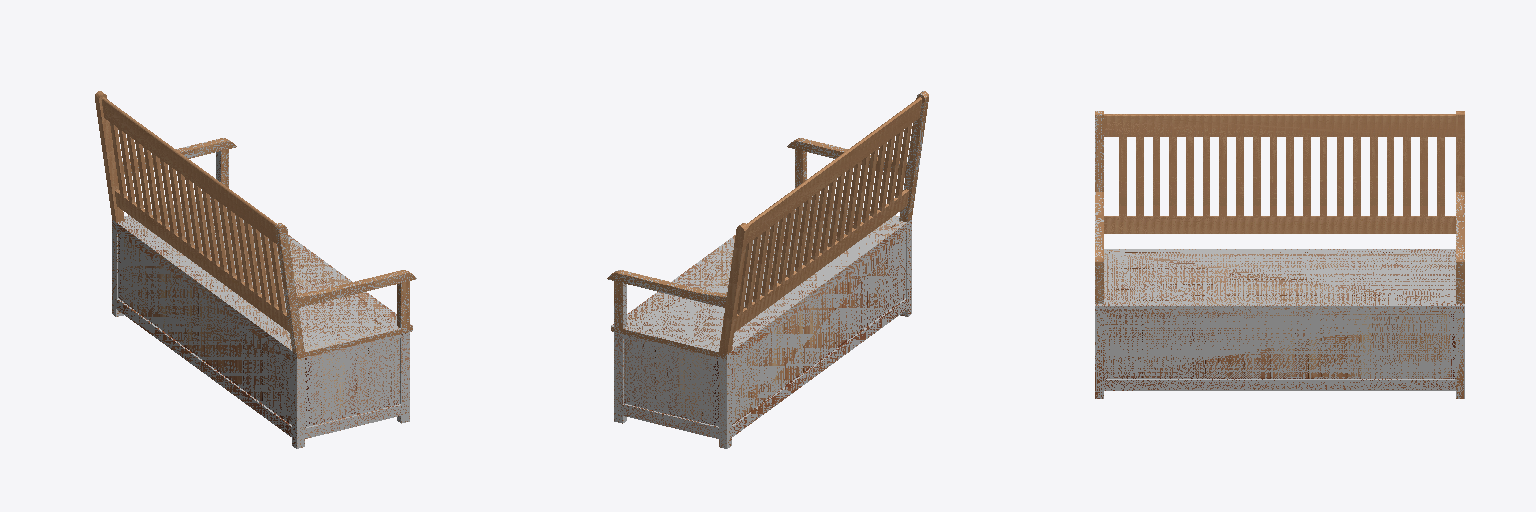
3 renders of one model, left to right at view 1: azimuth 30°, elevation 25°; view 2: azimuth 150°, elevation 25°; view 3: azimuth 270°, elevation 25°, orthographic.
Parts seen in each view (by area): view 1: mesh65.001_mesh65-geometry, mesh1_mesh1-geometry, mesh62_mesh62-geometry, mesh64_mesh64-geometry, mesh63_mesh63-geometry; view 2: mesh65.001_mesh65-geometry, mesh1_mesh1-geometry, mesh63_mesh63-geometry, mesh62_mesh62-geometry, mesh64_mesh64-geometry; view 3: mesh65.001_mesh65-geometry, mesh1_mesh1-geometry, mesh62_mesh62-geometry, mesh64_mesh64-geometry, mesh63_mesh63-geometry.
Boxes of the visible parts, box(x1,y1,x2,y2) form: mesh65.001_mesh65-geometry: box(112, 149, 412, 448); mesh1_mesh1-geometry: box(95, 91, 289, 332); mesh62_mesh62-geometry: box(275, 223, 304, 353); mesh64_mesh64-geometry: box(297, 270, 416, 307); mesh63_mesh63-geometry: box(122, 138, 236, 174); mesh65.001_mesh65-geometry: box(611, 149, 911, 448); mesh1_mesh1-geometry: box(719, 97, 921, 353); mesh63_mesh63-geometry: box(607, 270, 726, 307); mesh62_mesh62-geometry: box(899, 91, 928, 222); mesh64_mesh64-geometry: box(787, 138, 906, 175); mesh65.001_mesh65-geometry: box(1095, 249, 1464, 398); mesh1_mesh1-geometry: box(1104, 111, 1464, 233); mesh62_mesh62-geometry: box(1095, 111, 1103, 191); mesh64_mesh64-geometry: box(1095, 192, 1103, 261); mesh63_mesh63-geometry: box(1456, 192, 1464, 261).
Bounding box in the file's own units: 0.3369 × 0.5268 × 0.7804.
11 materials, 10 textured.